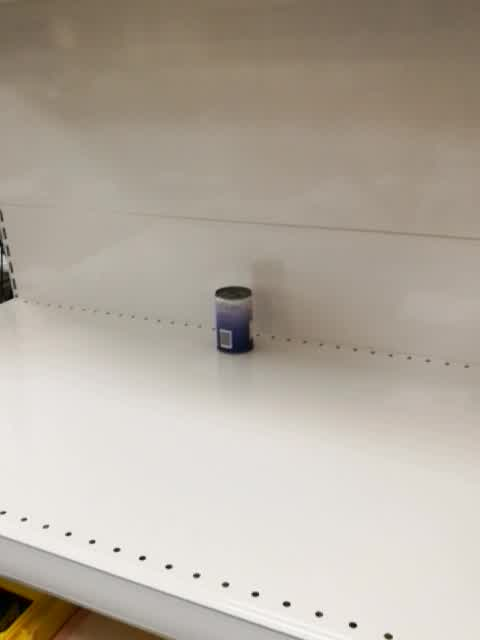sardine: (214, 284, 255, 356)
